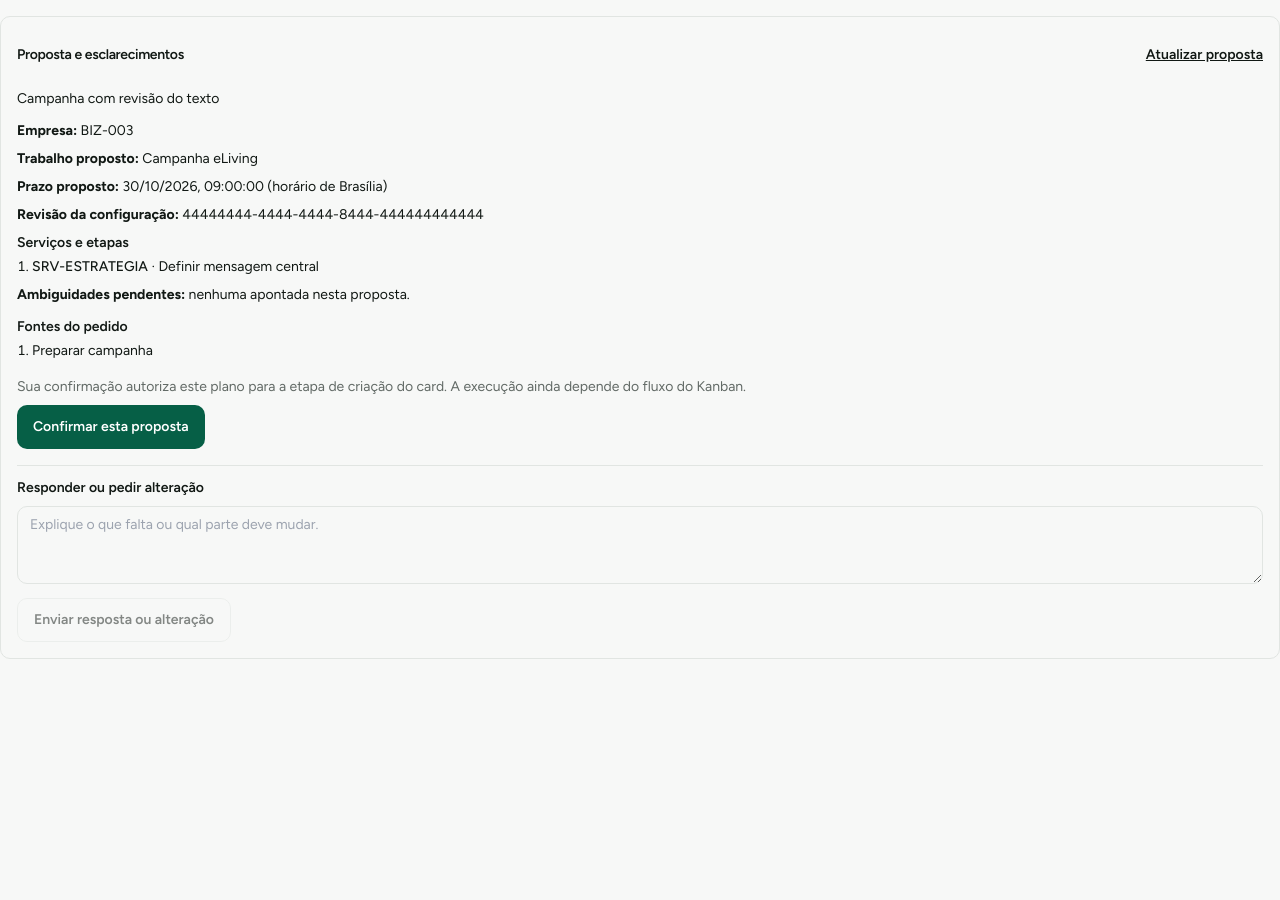
Scenario: mostra rejeição por versão obsoleta e atualiza a proposta antes de permitir nova ação
Click the button "Confirmar esta proposta": (111, 427) [17,405,205,449]
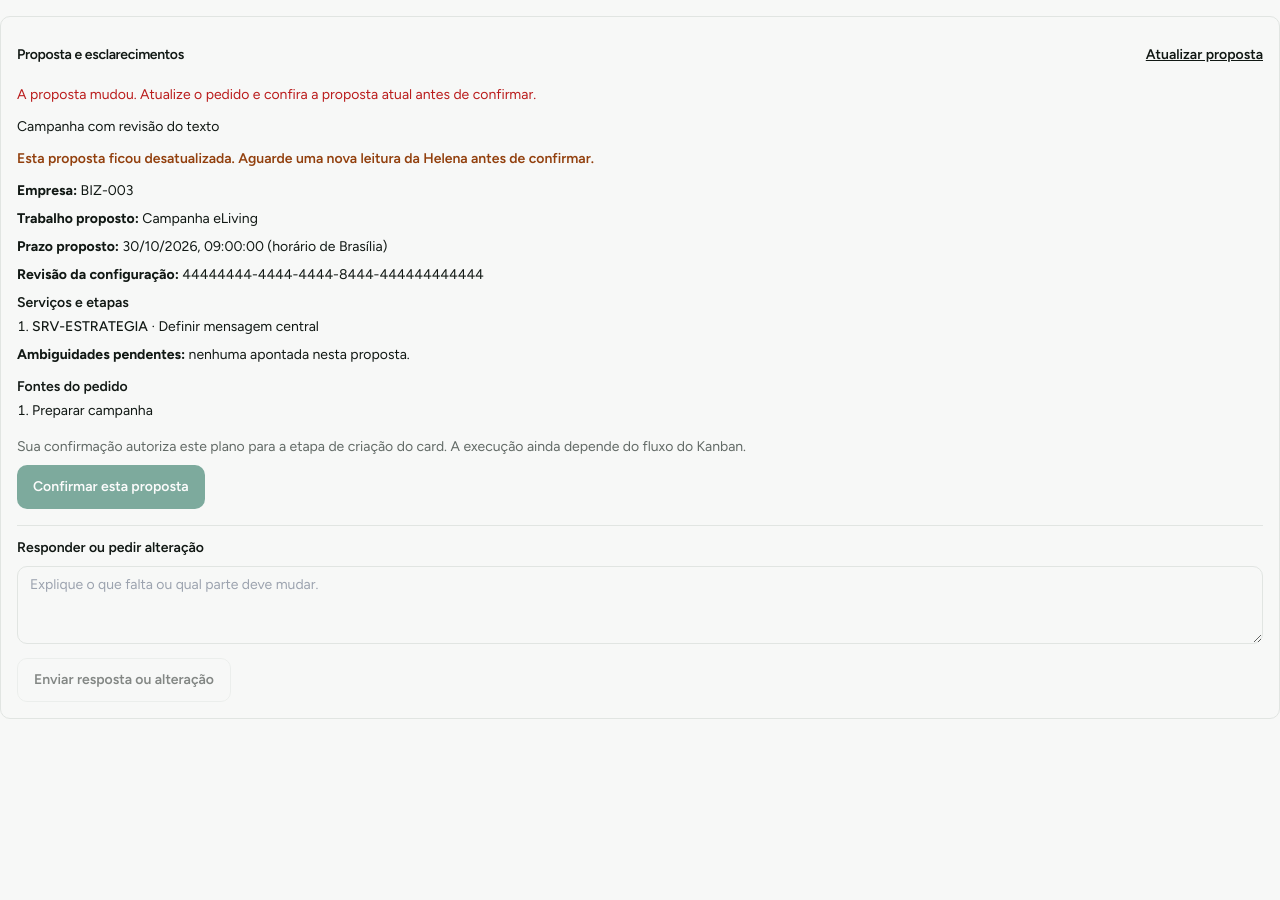
Expected: the text "A proposta mudou" is shown, [17,86,536,103]
Expected: the button "Confirmar esta proposta" is disabled, [17,465,205,509]
